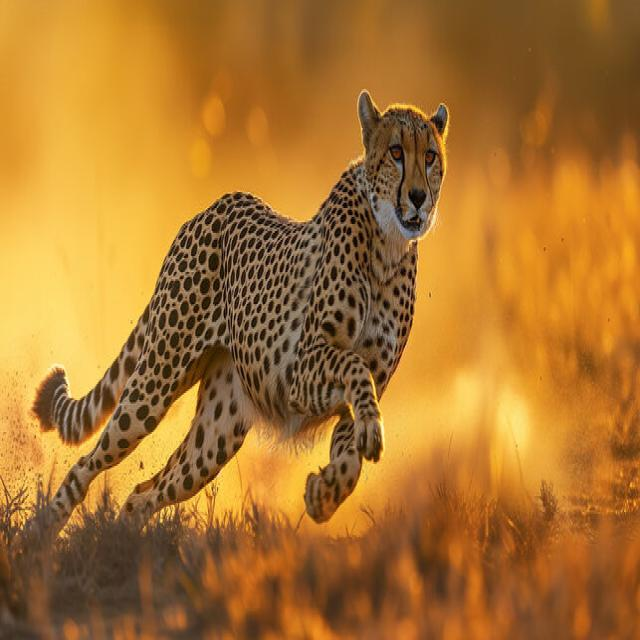Cheetah: (24, 89, 454, 542)
